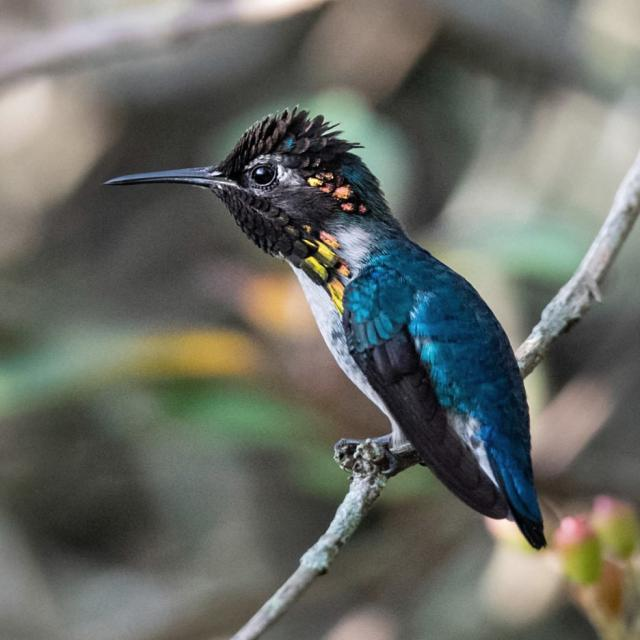hummingbird: (105, 108, 545, 549)
